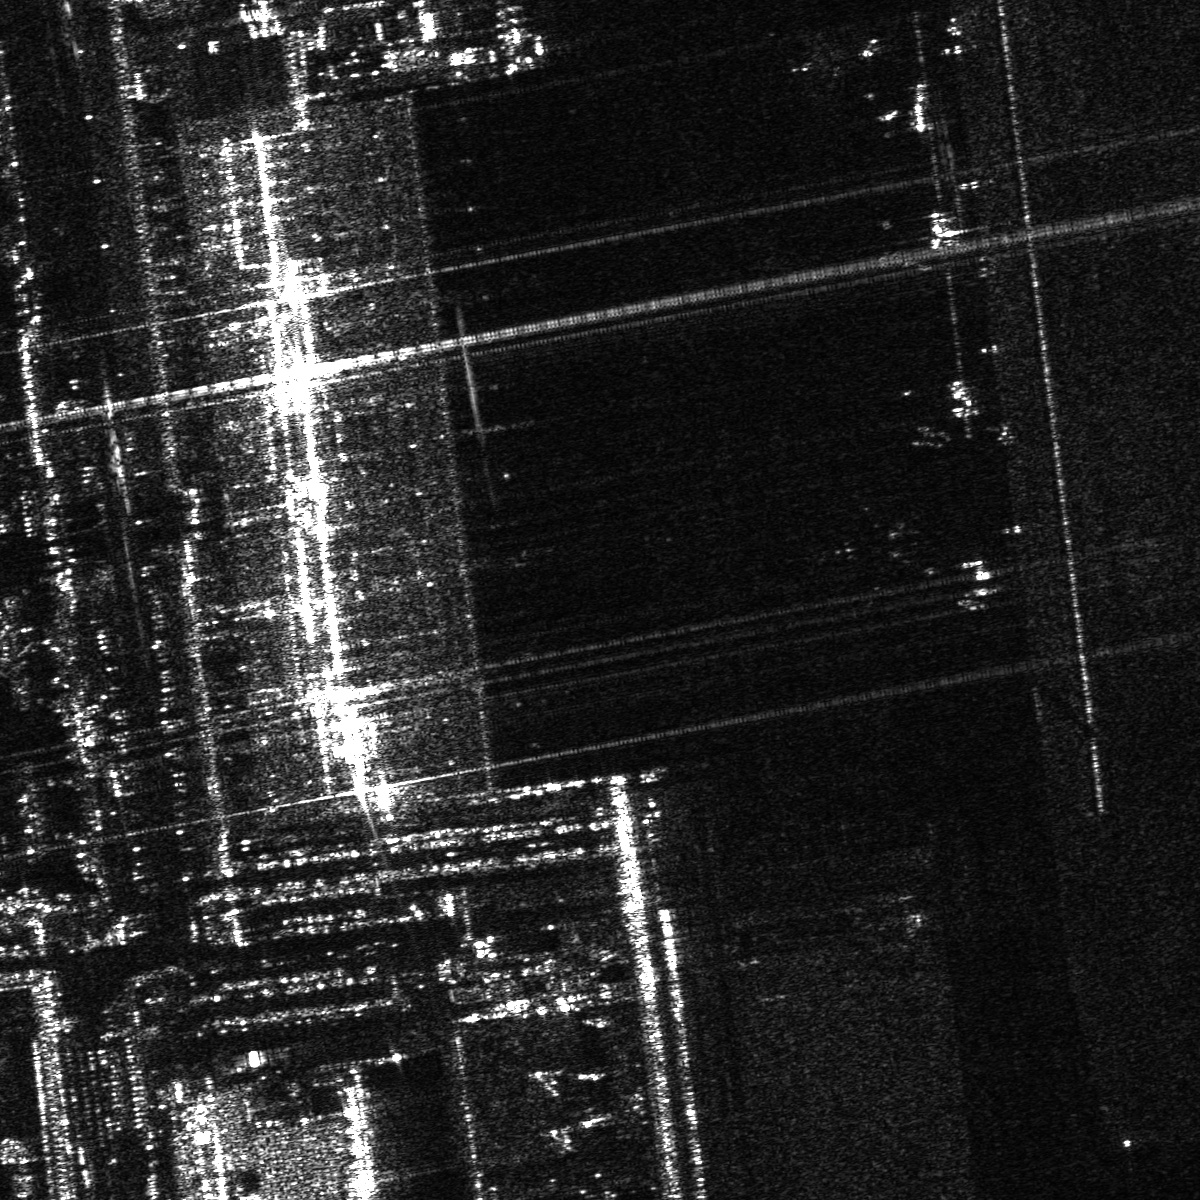A220: (784, 30, 854, 97)
Boeing787: (813, 489, 926, 610)
